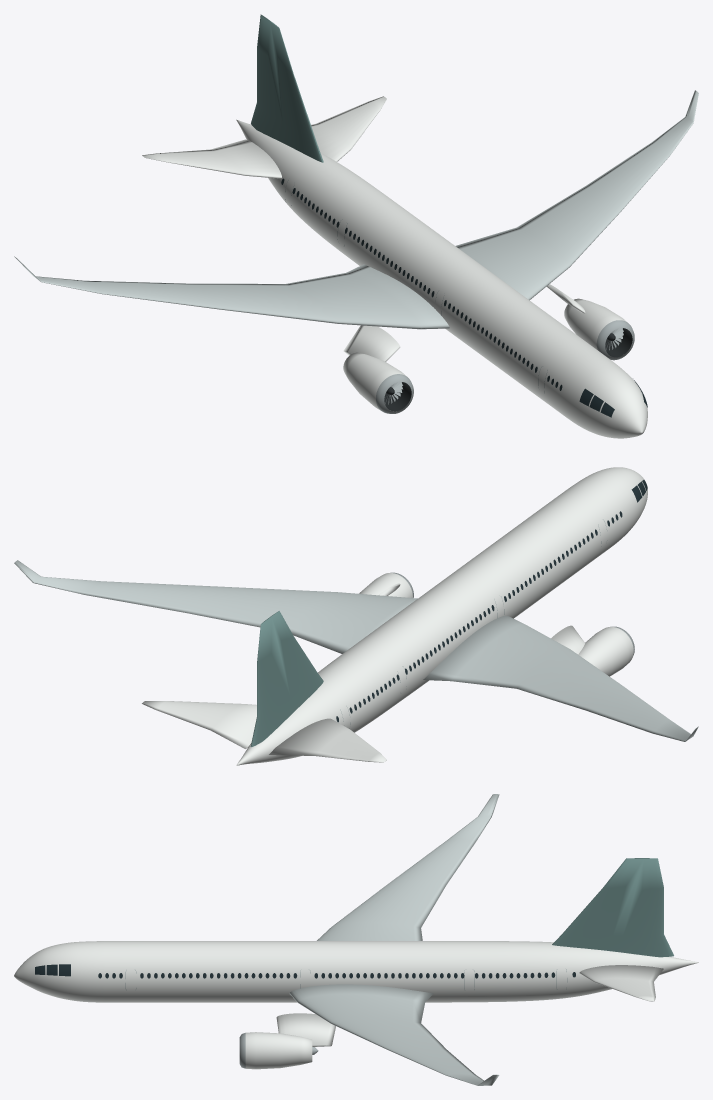
The model's file is melb-aircraft-mobile.glb.
3 renders of one model, top to bottom at view 1: azimuth 30°, elevation 25°; view 2: azimuth 150°, elevation 25°; view 3: azimuth 270°, elevation 25°, orthographic. The views are drawn at different scales.
Visible parts, largest first — view 1: MELB_Longhaul_Exterior.001; view 2: MELB_Longhaul_Exterior.001; view 3: MELB_Longhaul_Exterior.001.
Boxes of the visible parts, <box> form: MELB_Longhaul_Exterior.001: <box>14,14,698,438</box>; MELB_Longhaul_Exterior.001: <box>14,467,698,765</box>; MELB_Longhaul_Exterior.001: <box>14,794,698,1085</box>.
Bounding box in the file's own units: 64.75 × 17.62 × 66.8.
